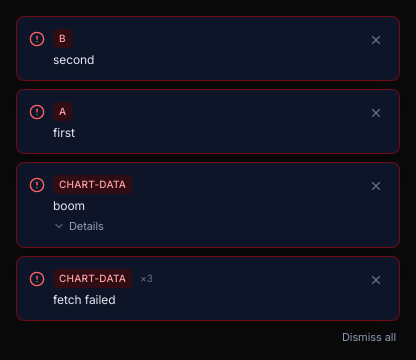
it: ErrorToasts › dismissing a toast removes only that one
Expected: the text "first" is shown, [53, 125, 75, 140]
Expected: the text "second" is shown, [53, 52, 94, 67]
Click the 1st button titled "Dismiss": x=376, y=40 [365, 29, 387, 51]
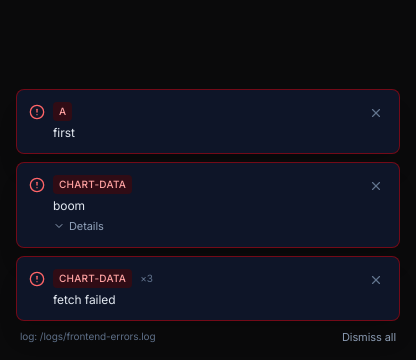
Expected: the text "first" is shown, [53, 125, 75, 140]
Now the text "second" is gone
